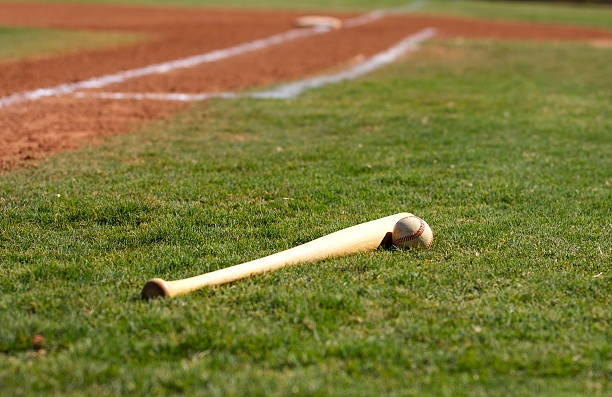bita: (153, 196, 425, 309)
